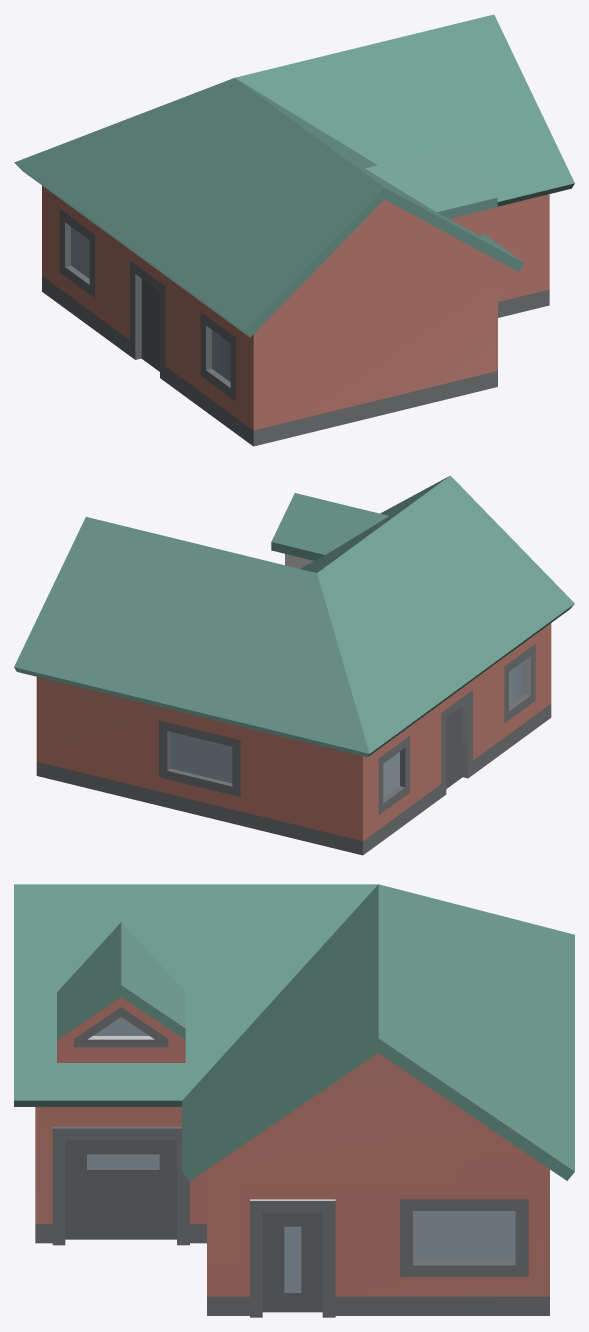
File: house5.fbx
The picture shows the model from 3 angles, top to bottom: view 1: azimuth 30°, elevation 25°; view 2: azimuth 150°, elevation 25°; view 3: azimuth 270°, elevation 25°; orthographic projection. The views are drawn at different scales.
Parts seen in each view (by area): view 1: house_type05; view 2: house_type05; view 3: house_type05.
Boxes of the visible parts, x1,y1,x2,y2 form: house_type05: [14, 14, 574, 446]; house_type05: [14, 475, 574, 855]; house_type05: [14, 884, 574, 1317].
Bounding box in the file's own units: 1308 × 738 × 1308.
